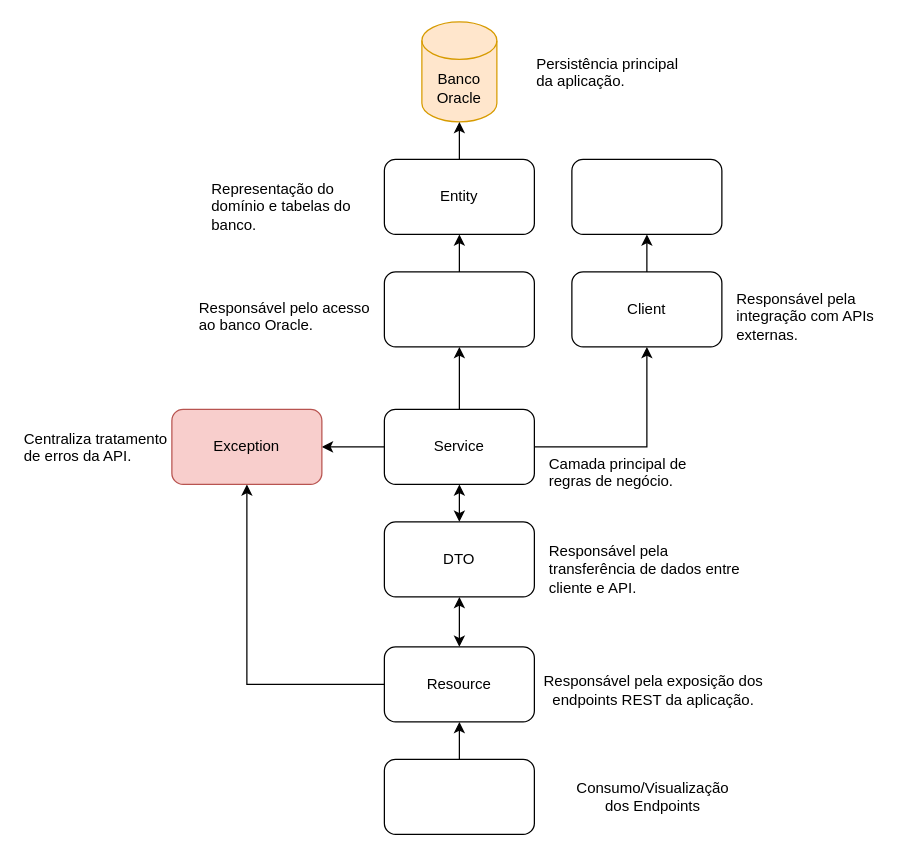
Some shapes in this 918 by 856 pixel diagram are drawn without their labels. The shapes that lost their labels are listed below. From the top down, each one's centre as x and y in pixels, then its label:
At (x=646, y=196): "Api Externa".
At (x=458, y=309): "Repository".
At (x=458, y=796): "Front-End/Swagger".
